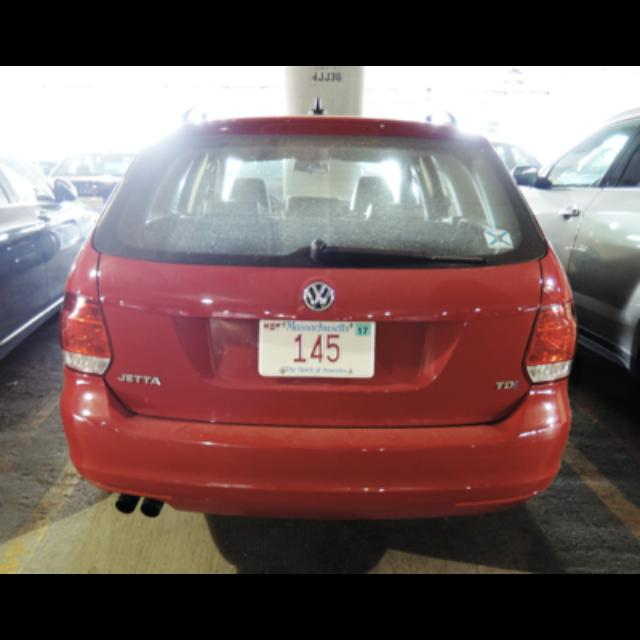carPlate: (260, 320, 374, 378)
